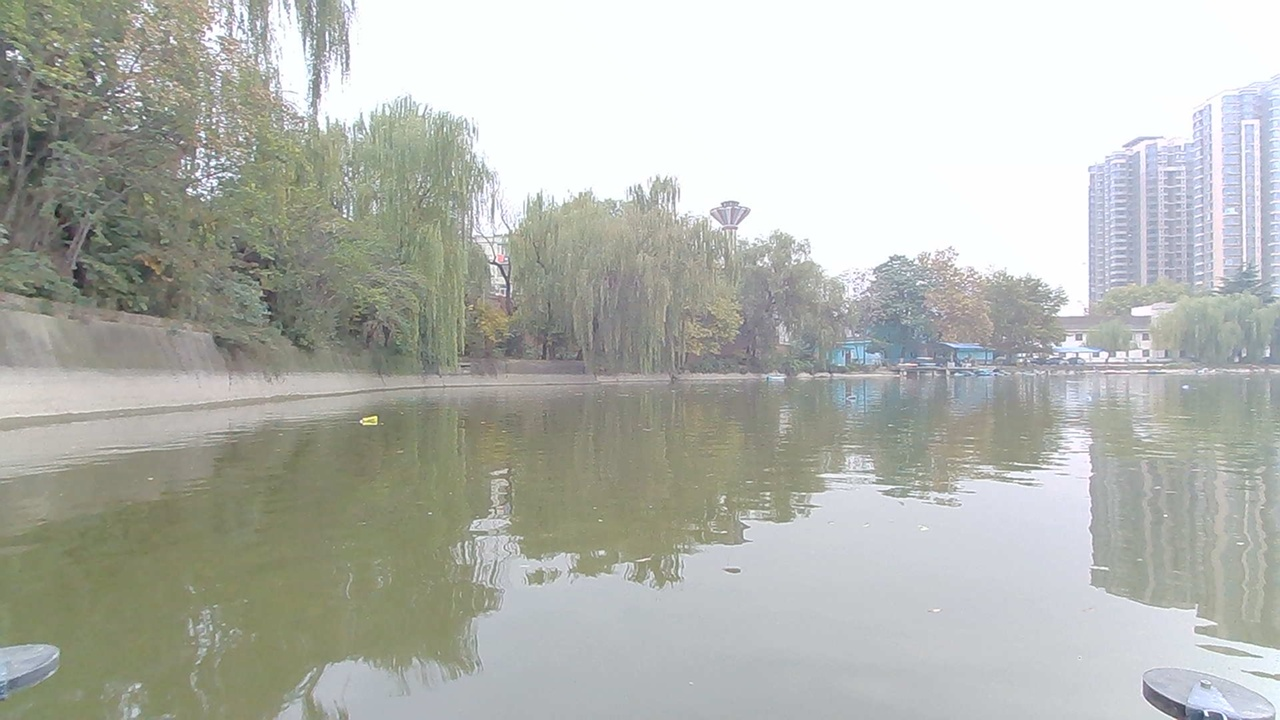bottle: (354, 411, 388, 434), (833, 389, 862, 404)
